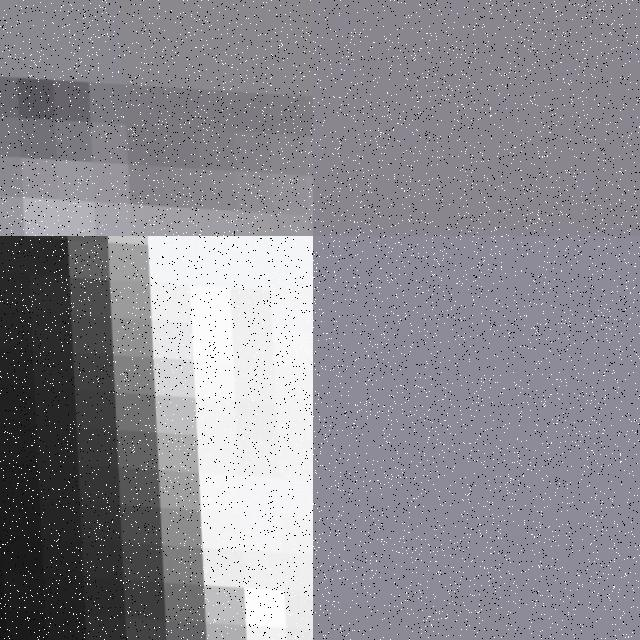0: (0, 0, 313, 236)
drone: (0, 236, 313, 640)
